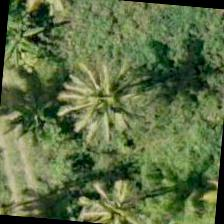Kelapa_Sawit: (54, 42, 152, 140), (72, 162, 169, 223)
